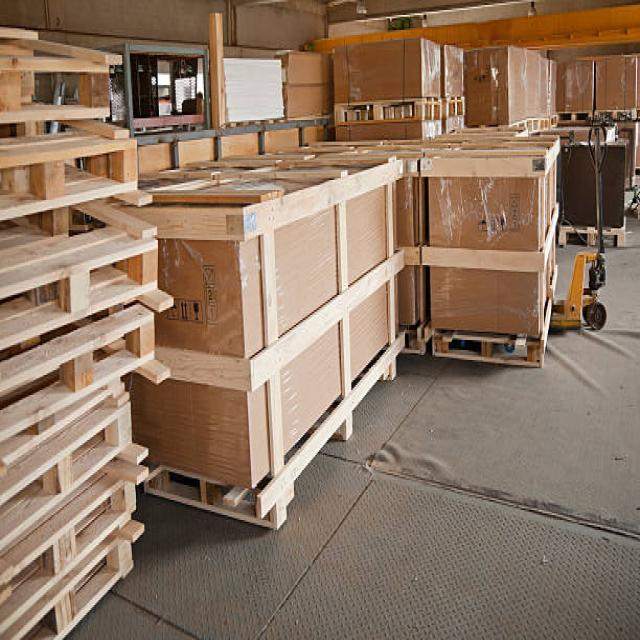Wooden-Pallets: (0, 386, 143, 553), (1, 309, 159, 448), (0, 239, 159, 364), (425, 324, 548, 379)
